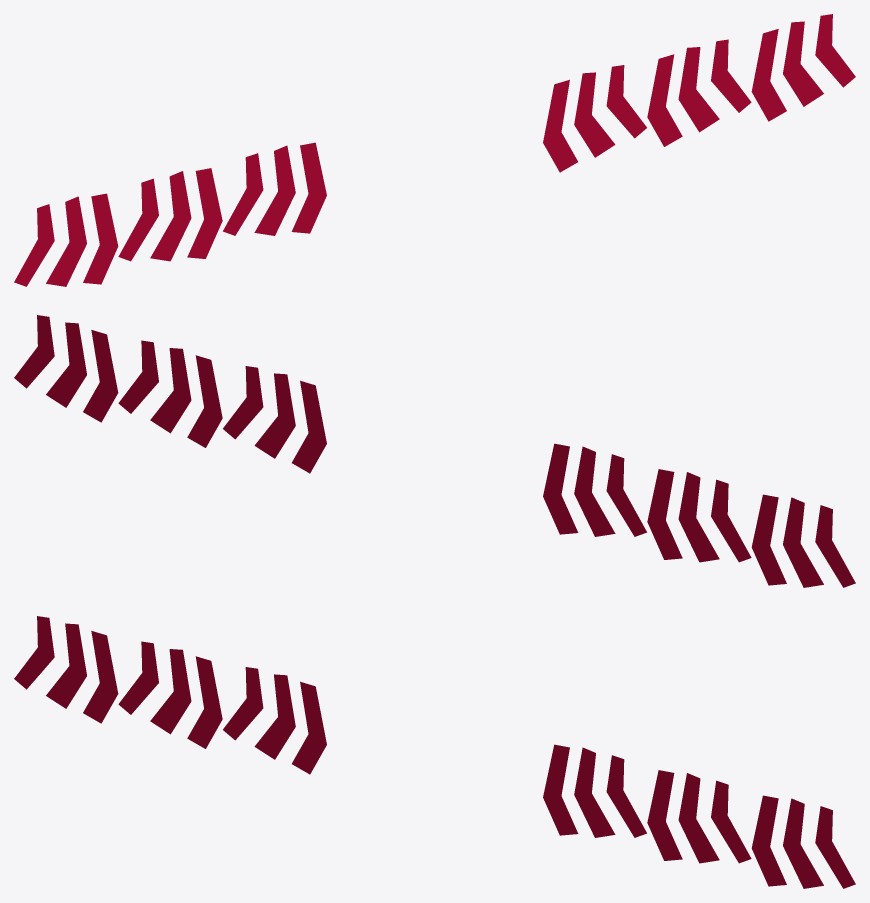
Rendered from pompomporn(p).obj.
The picture shows the model from 3 angles, top to bottom: view 1: azimuth 30°, elevation 25°; view 2: azimuth 150°, elevation 25°; view 3: azimuth 330°, elevation 25°; orthographic projection.
Visible parts, largest first — view 1: Plane.001_Plane.003; view 2: Plane.001_Plane.003; view 3: Plane.001_Plane.003.
Boxes of the visible parts, bbox=[...] form: Plane.001_Plane.003: bbox=[14, 14, 855, 286]; Plane.001_Plane.003: bbox=[14, 315, 855, 587]; Plane.001_Plane.003: bbox=[14, 616, 855, 888].
Bounding box in the file's own units: 0.4243 × 0.0452 × 0.
